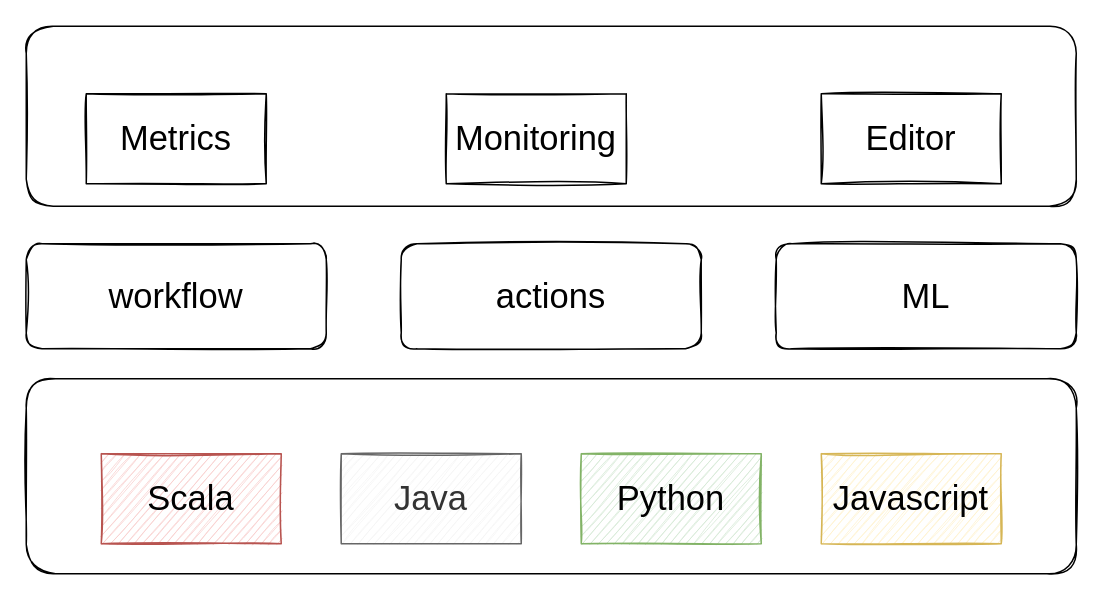
The diagram is 1103 pixels wide and 600 high, and some of its shapes have lost their labels. Each missing label, with the box of its shape:
Core: (25, 377, 1076, 574)
UI: (25, 25, 1076, 206)
